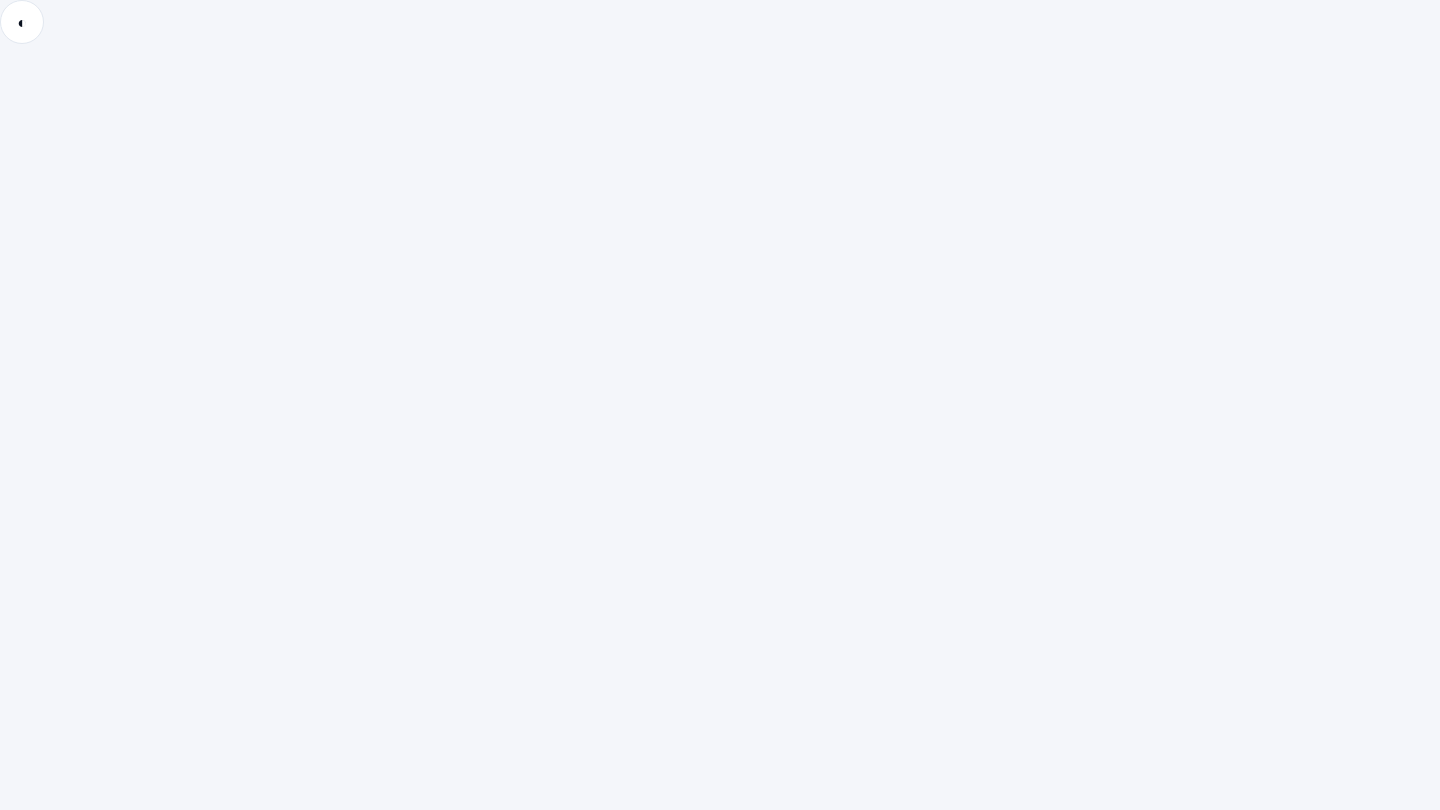
Test: ThemeToggle (TH1, TH3) › switches the theme on <html> and back again
This screenshot has width=1440, height=810.
Click the switch named "dark mode" at (22, 22), box [0,0,44,44]
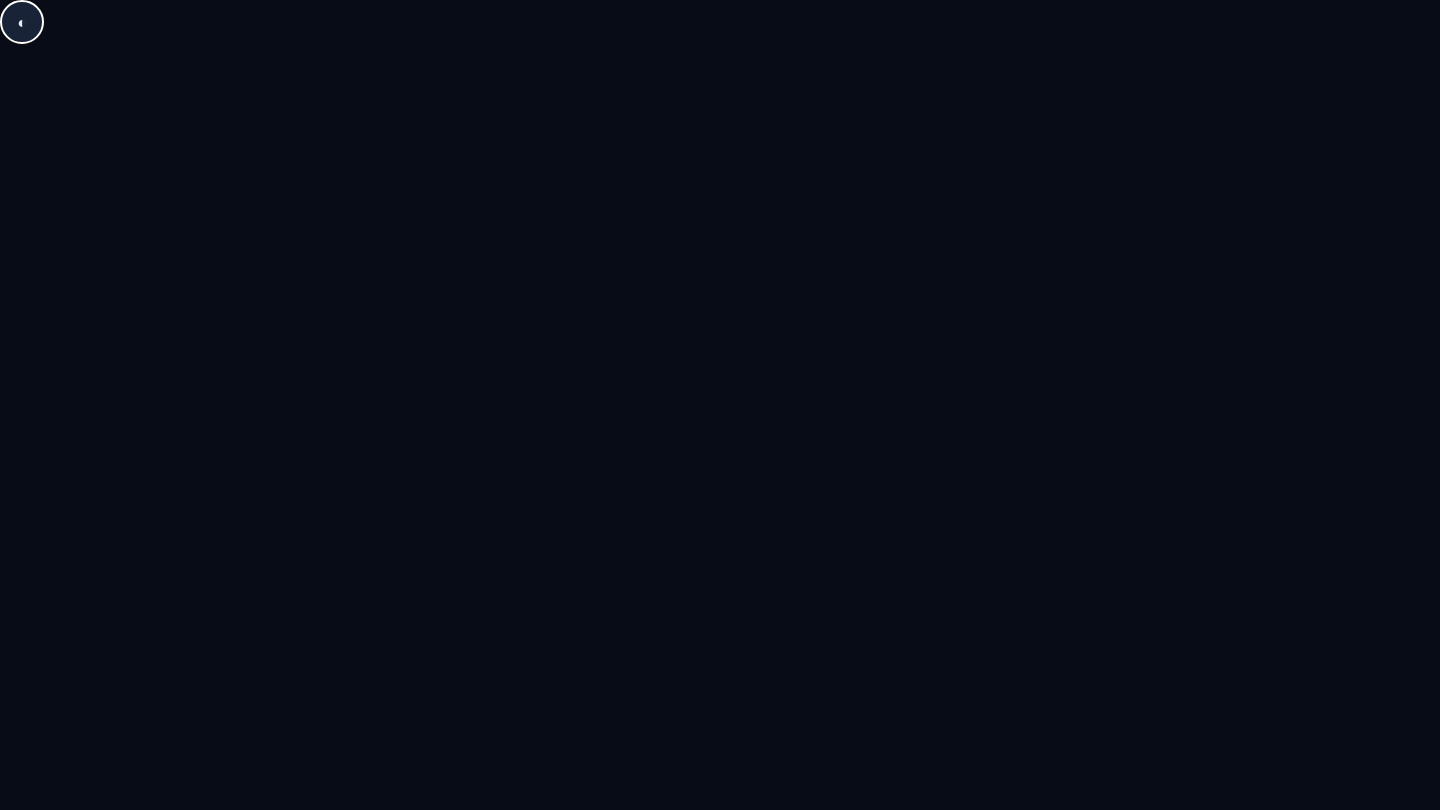
Expected: the switch named "dark mode" is checked
Click the switch named "dark mode" at (22, 22), box [0,0,44,44]
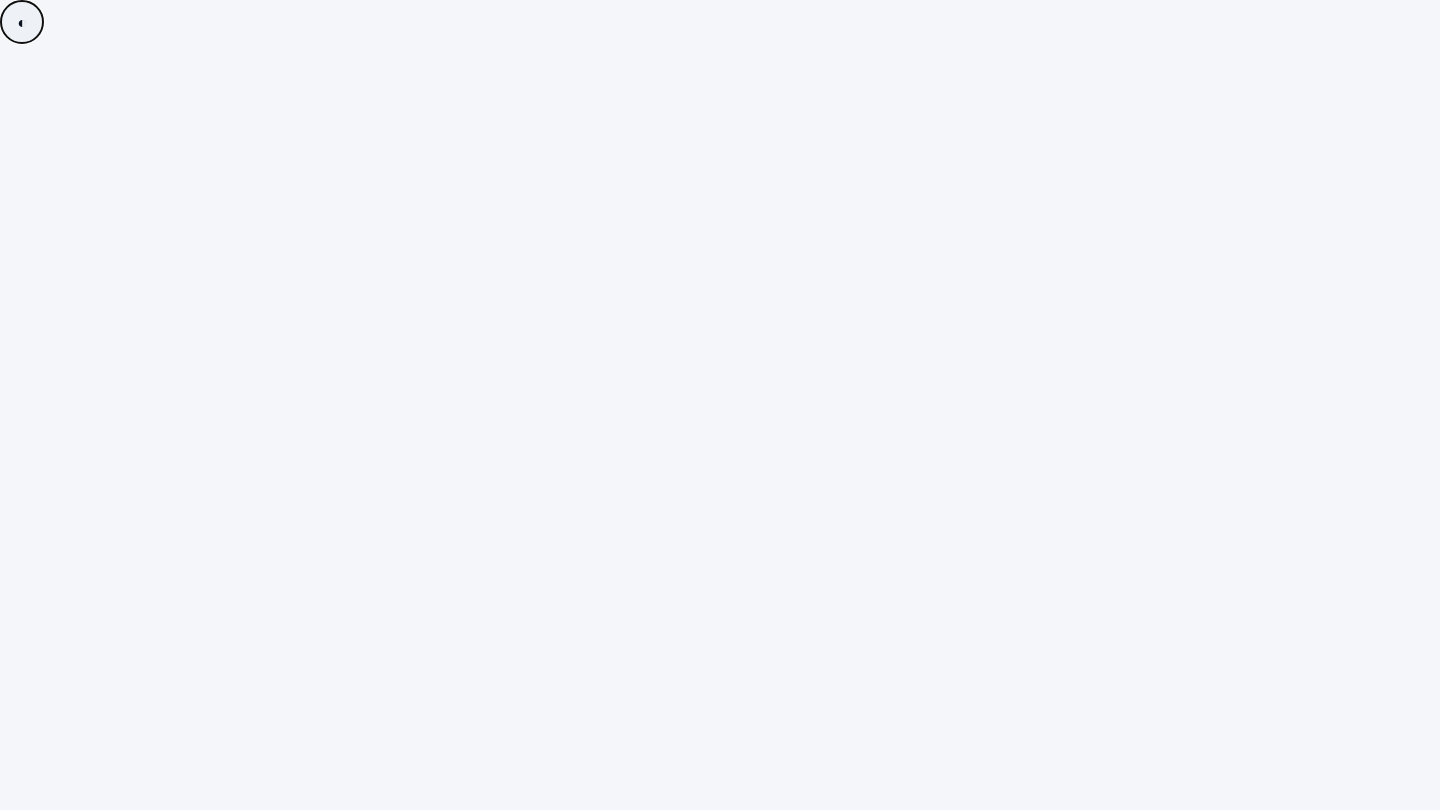
Expected: the switch named "dark mode" is not checked, [0,0,44,44]
